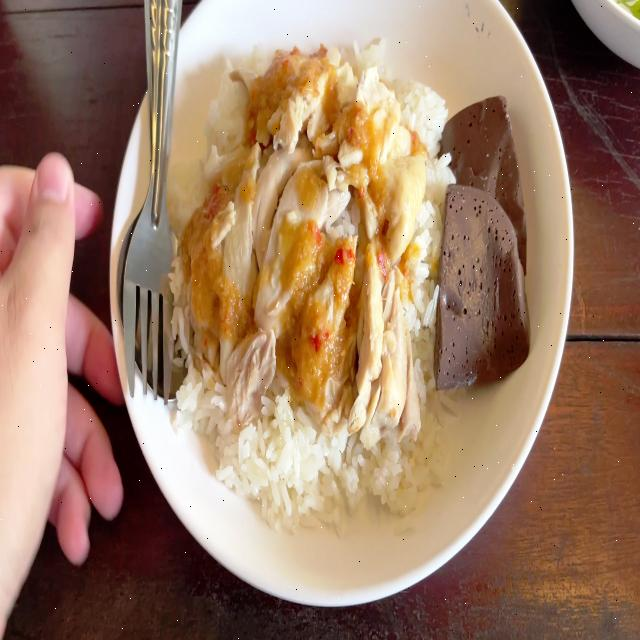boiled_chicken: (186, 67, 419, 403)
boiled_chicken_blood_jelly: (436, 175, 522, 387), (442, 97, 528, 267)
chicken_rice: (173, 43, 537, 550)
